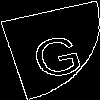G: (25, 24, 86, 81)
